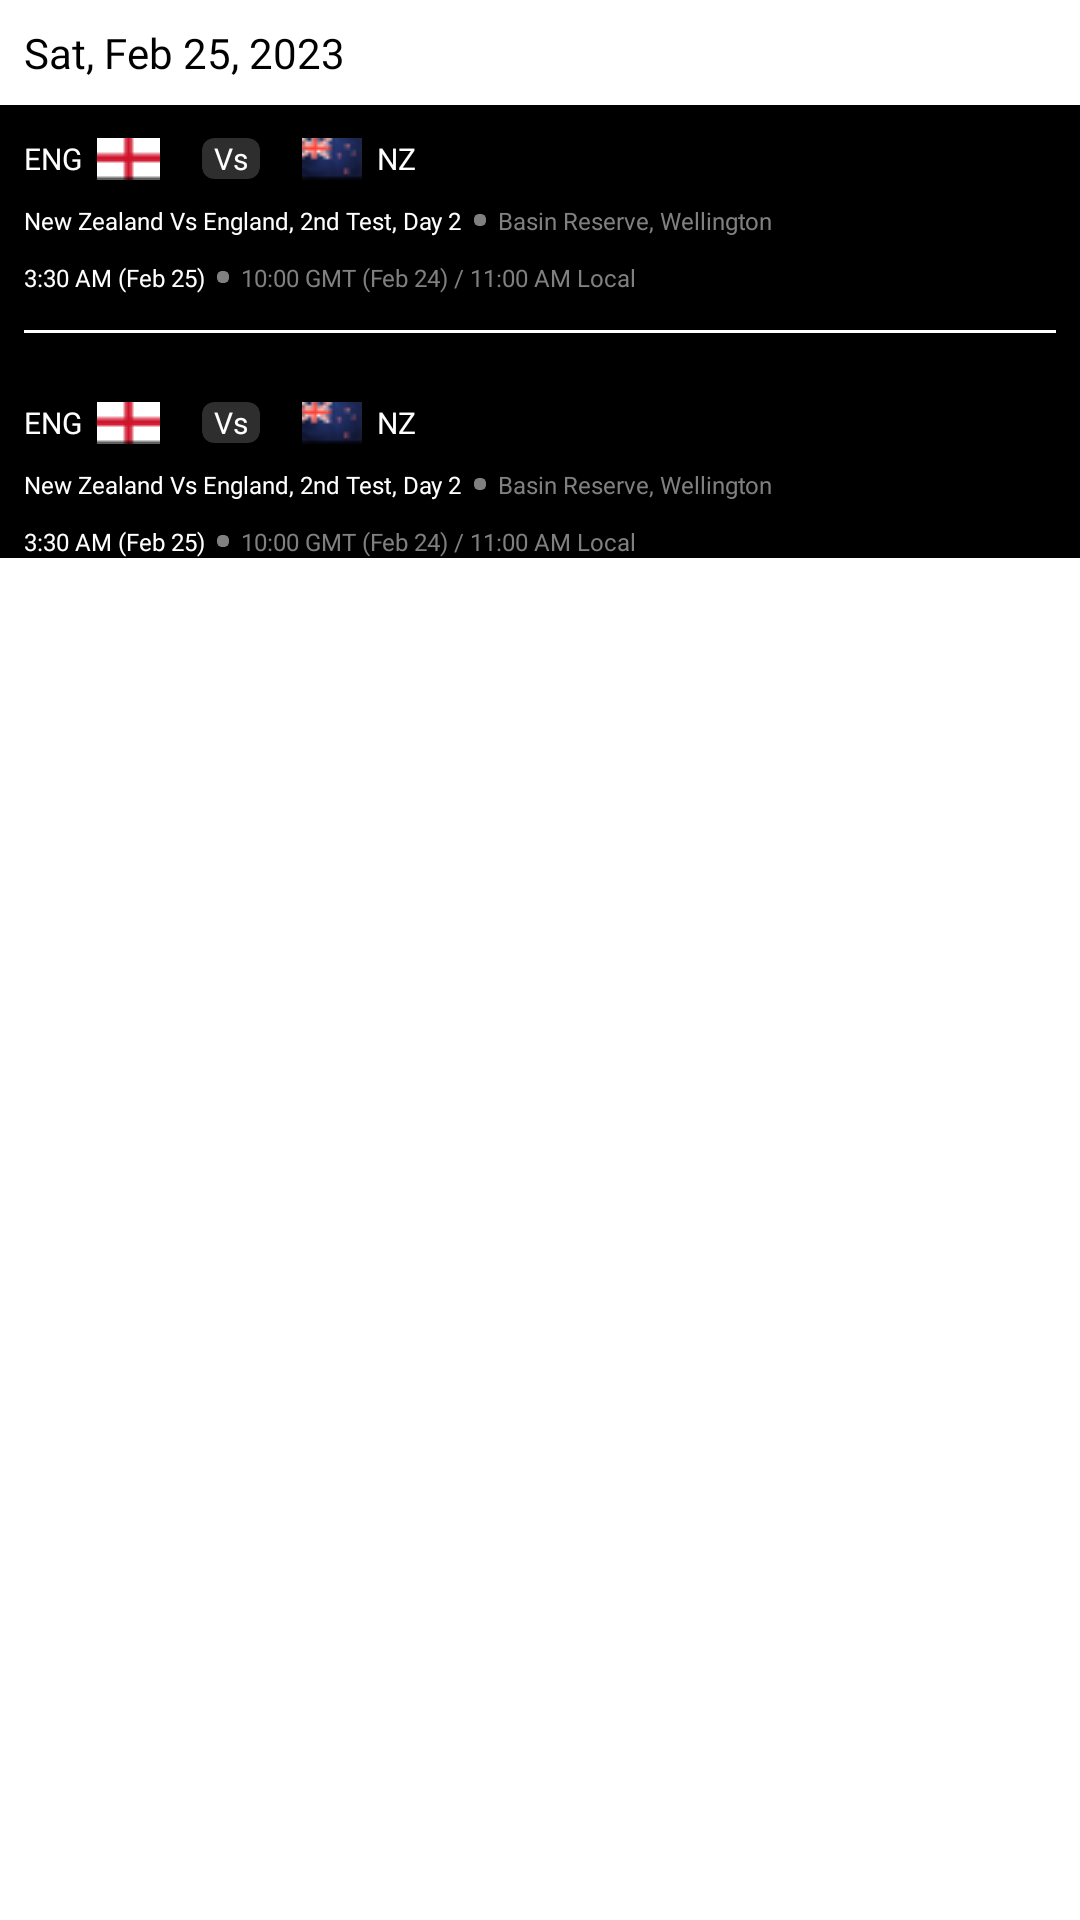

Where icons sit on this 1080 x 1920 app screen, as box(x1, y1, x2, y2):
flag: box(302, 138, 362, 178), box(302, 402, 362, 442)
